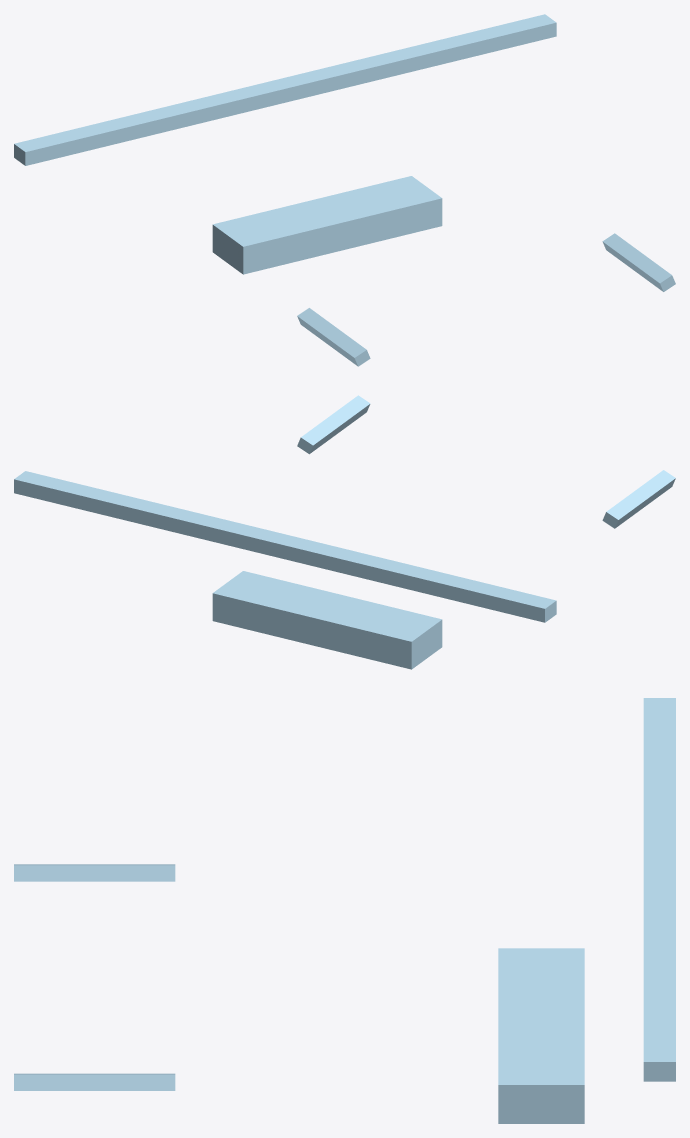
Rendered from SM_Int_Fighter_Cabin_Lights.fbx.
3 views of the same model, one above another, from view 1: azimuth 30°, elevation 25°; view 2: azimuth 150°, elevation 25°; view 3: azimuth 270°, elevation 25° (orthographic). The views are drawn at different scales.
Parts seen in each view (by area): view 1: SM_Int_Fighter_Cabin_Lights; view 2: SM_Int_Fighter_Cabin_Lights; view 3: SM_Int_Fighter_Cabin_Lights.
Boxes of the visible parts, x1,y1,x2,y2 form: SM_Int_Fighter_Cabin_Lights: (14, 14, 675, 366); SM_Int_Fighter_Cabin_Lights: (14, 395, 675, 669); SM_Int_Fighter_Cabin_Lights: (14, 698, 675, 1123).
Bounding box in the file's own units: 160 × 123 × 36.
